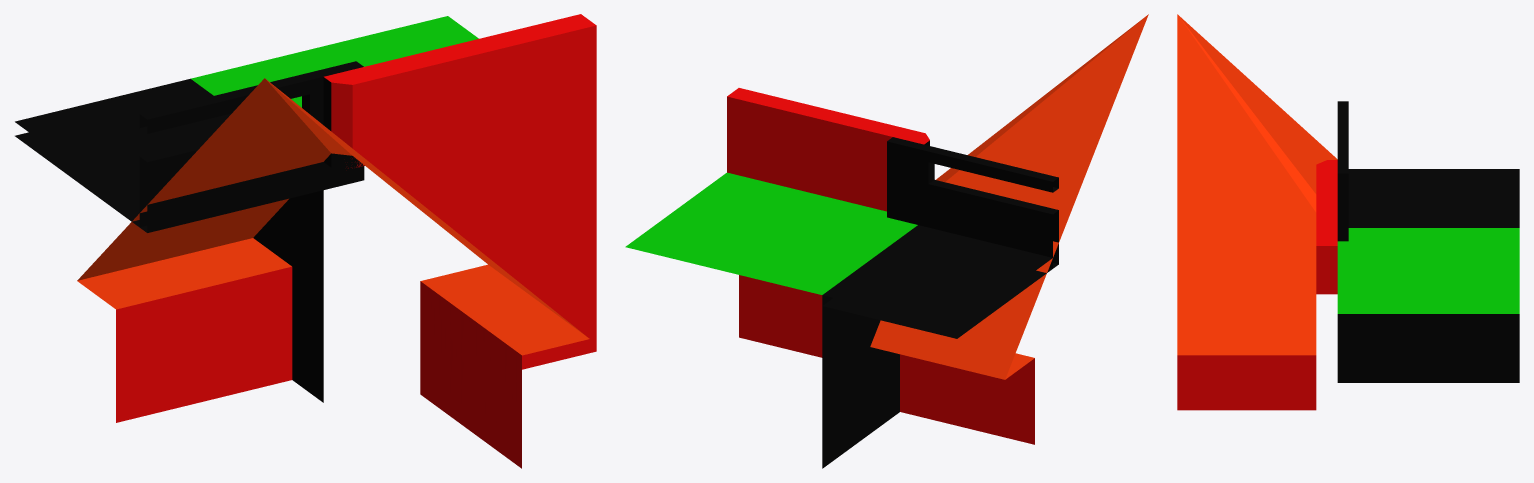
The picture shows the model from 3 angles, left to right: view 1: azimuth 30°, elevation 25°; view 2: azimuth 150°, elevation 25°; view 3: azimuth 270°, elevation 25°; orthographic projection. The views are drawn at different scales.
Visible parts, largest first — view 1: None_W_E_E_E_P_S_E_E_None; view 2: None_W_E_E_E_P_S_E_E_None; view 3: None_W_E_E_E_P_S_E_E_None.
Part boxes in pixels (x1,y1,x2,y2): None_W_E_E_E_P_S_E_E_None: [15, 14, 596, 468]; None_W_E_E_E_P_S_E_E_None: [625, 14, 1148, 468]; None_W_E_E_E_P_S_E_E_None: [1177, 14, 1519, 410].
Bounding box in the file's own units: 100 × 100 × 100.
